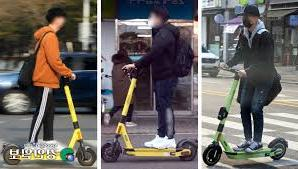nonhelmet: (0, 8, 96, 167), (101, 6, 197, 162), (201, 5, 289, 166)
